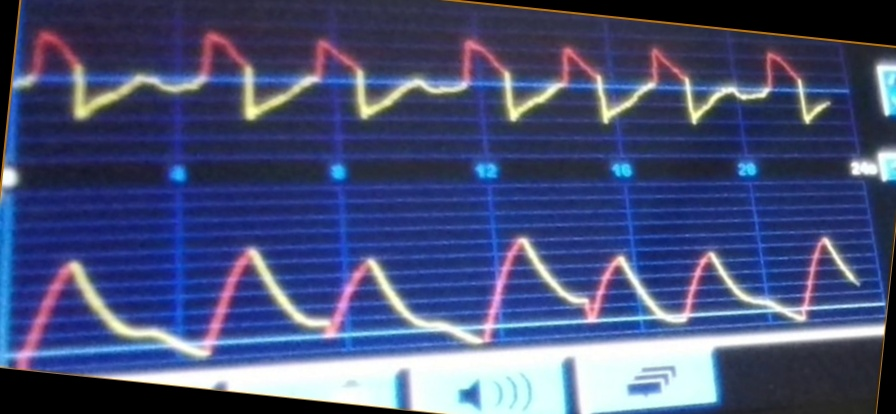Ineffective_effort Flow: (17, 25, 833, 147)
Ineffective_effort Volume: (13, 229, 861, 360)
